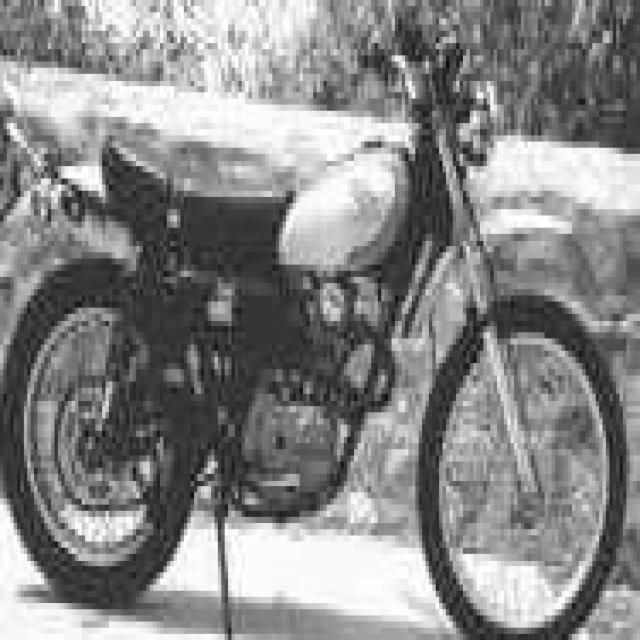Motorcycle: (0, 104, 616, 598)
